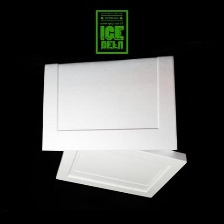foam_box: (34, 52, 191, 201)
